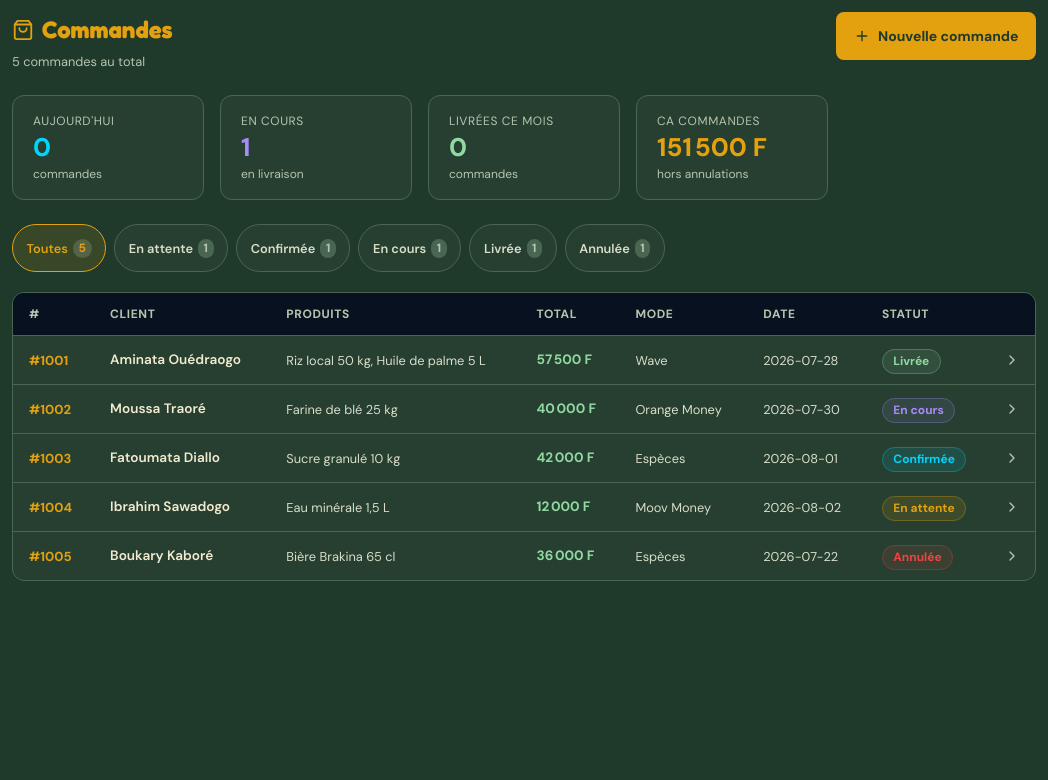
it: CommandesPage › 14 — filtre "En attente" : affiche Ibrahim, masque Aminata
The image size is (1048, 780).
What coordinates should you click on to do the following:
click the button "En attente 1"
I would click on:
 (171, 248)
Its box is [114,224,228,272].
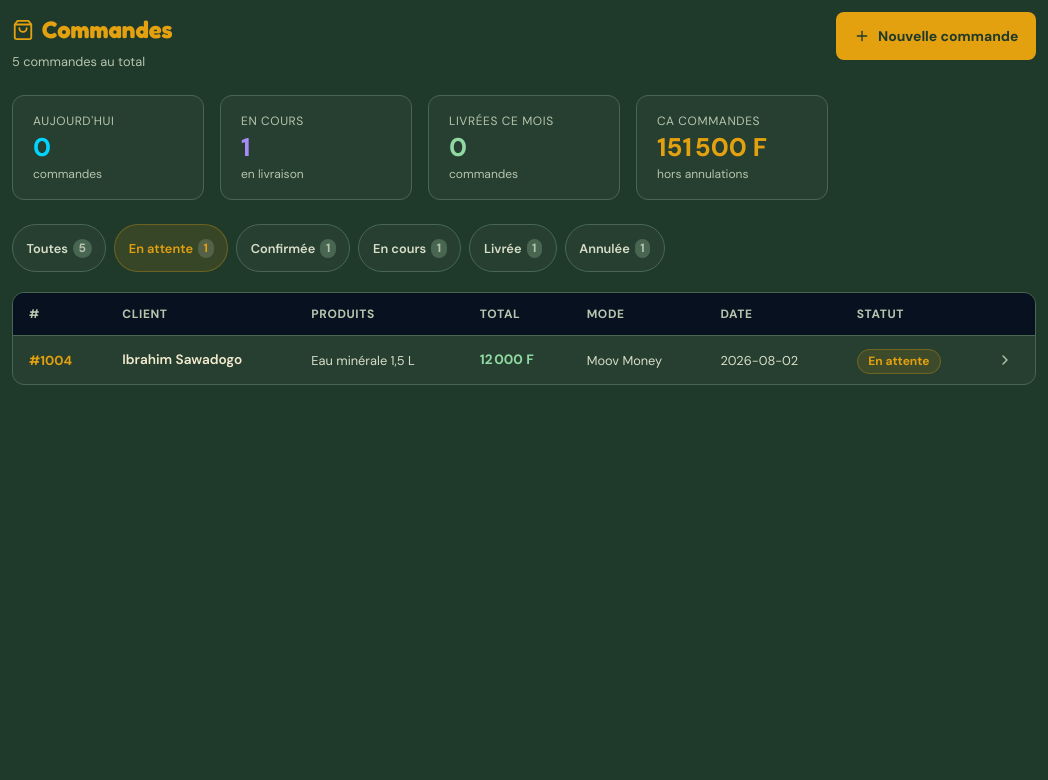
Check: the text "Ibrahim Sawadogo" is shown, box [106,336,295,384]
Check: the text "Aminata Ouédraogo" is gone
